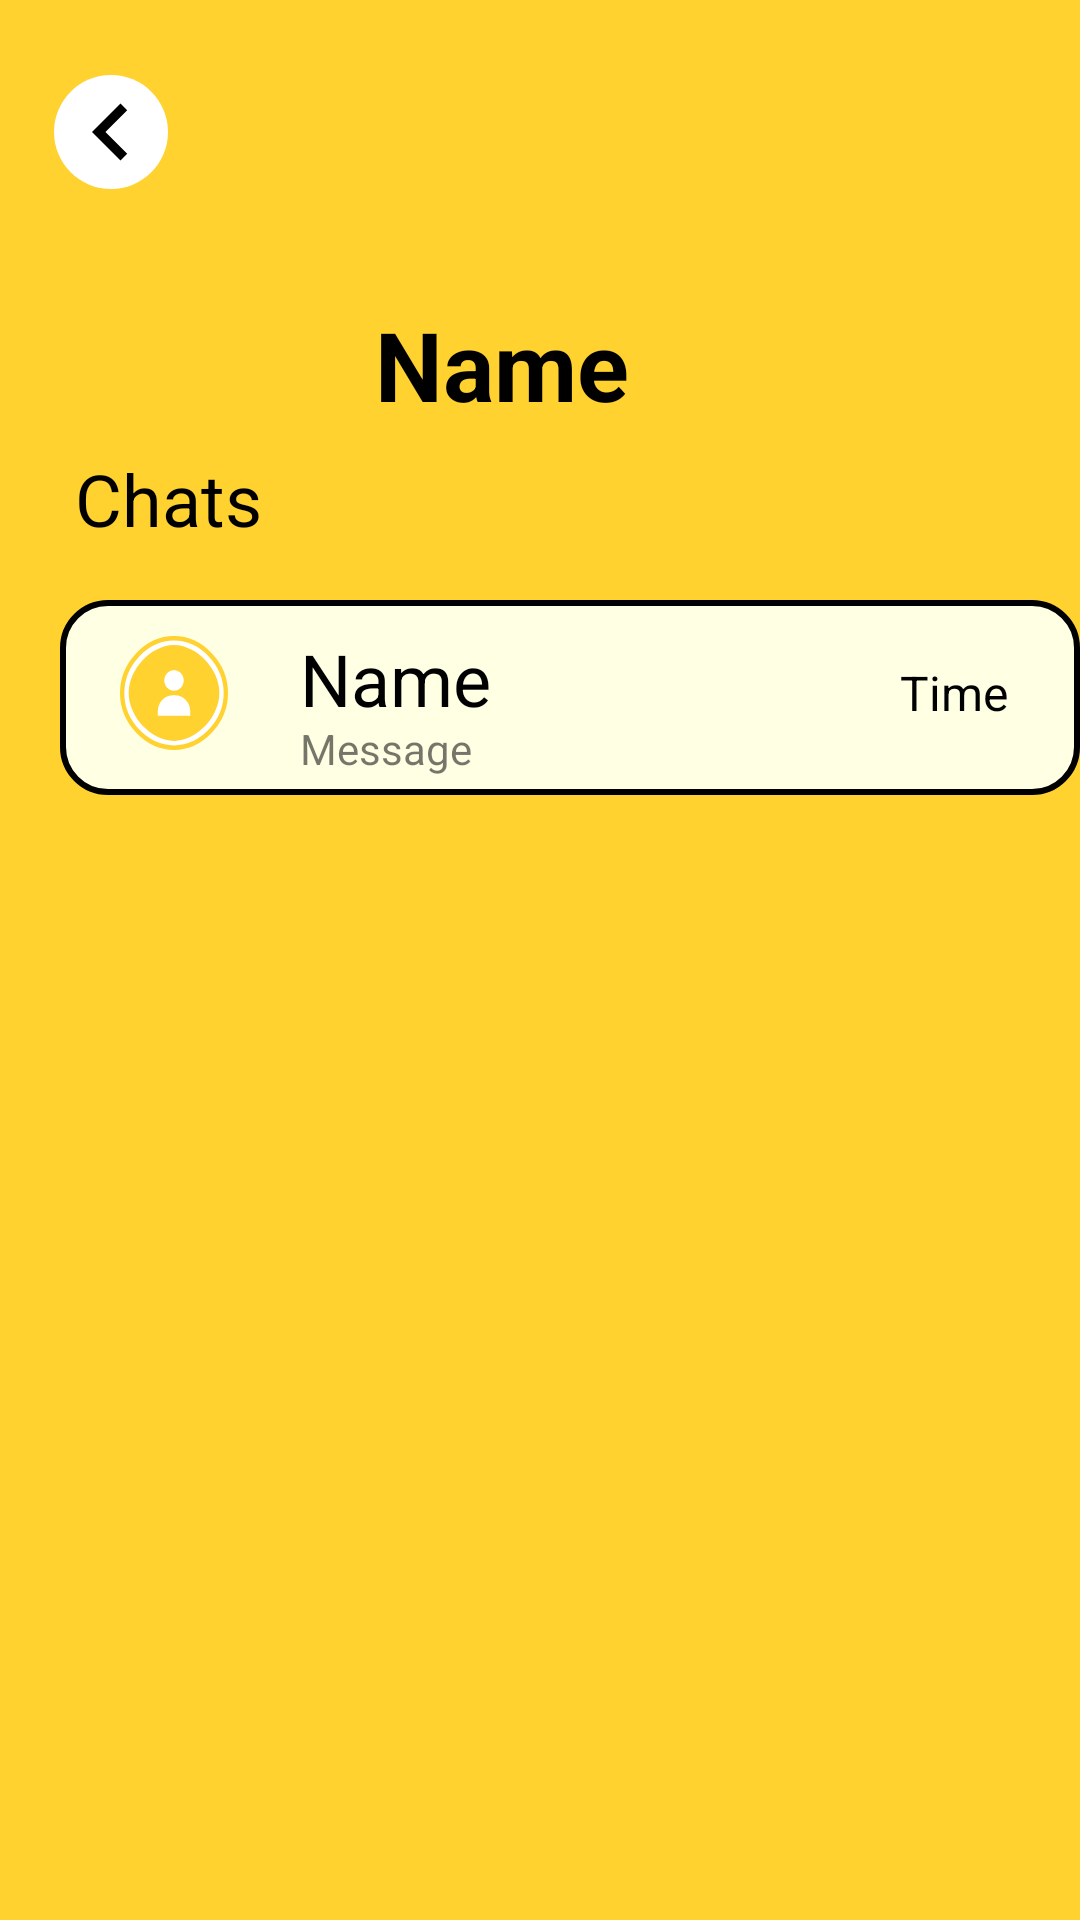

Point at icon controls on the screen. Image size 1080w x 1920h, points as (x,y).
arrow: (111,132)
